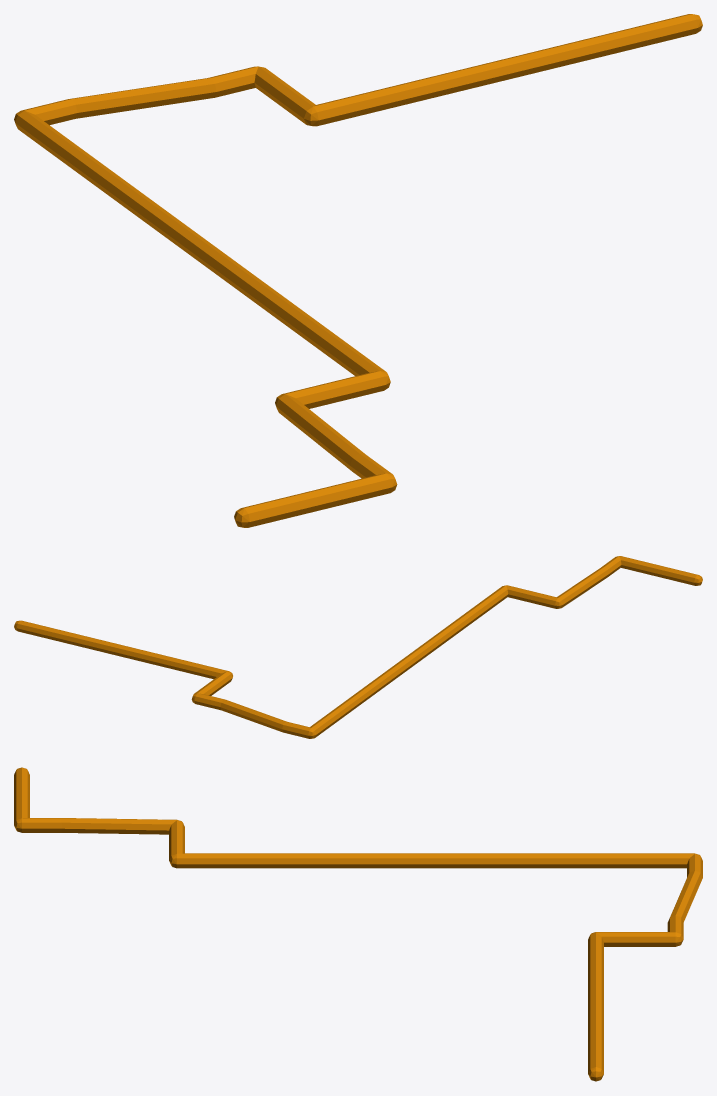
The picture shows the model from 3 angles, top to bottom: view 1: azimuth 30°, elevation 25°; view 2: azimuth 150°, elevation 25°; view 3: azimuth 270°, elevation 25°; orthographic projection. The views are drawn at different scales.
Size of the model in its own units: 909 by 20 by 865.
